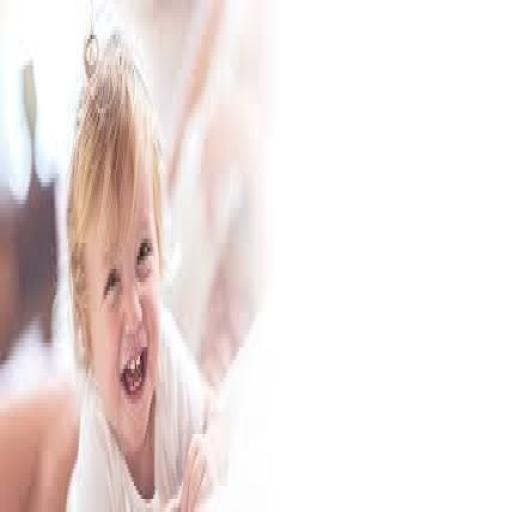laughing: (54, 18, 219, 504)
